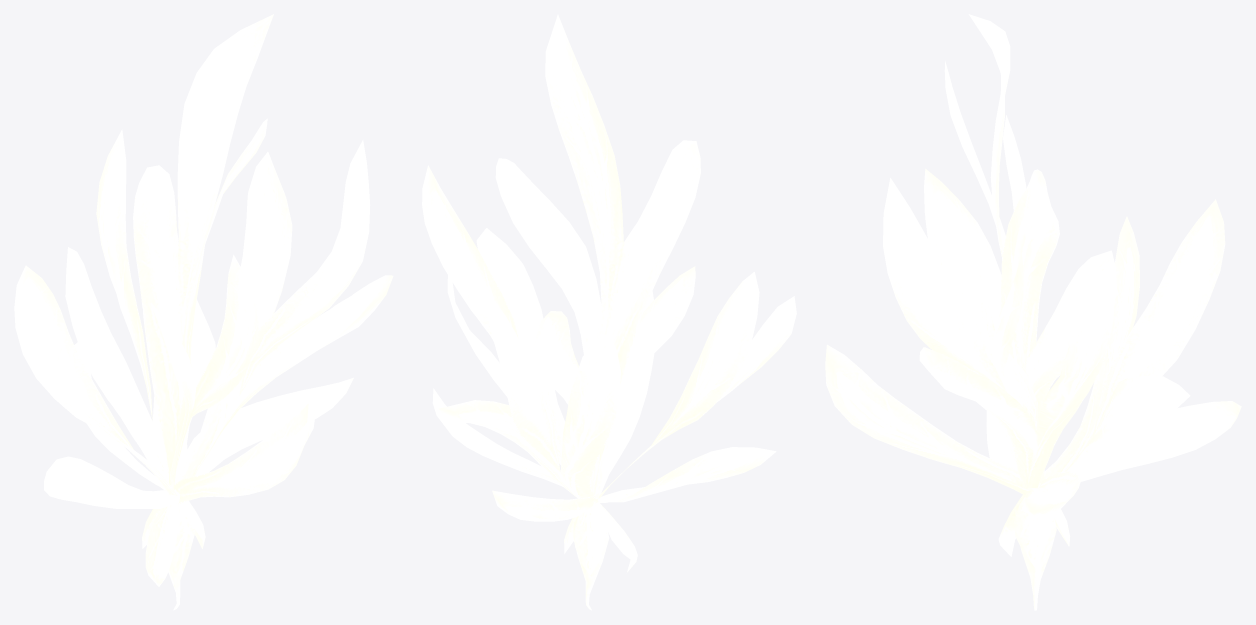
3 views of the same model, side by side, from view 1: azimuth 30°, elevation 25°; view 2: azimuth 150°, elevation 25°; view 3: azimuth 270°, elevation 25° (orthographic). The views are drawn at different scales.
Parts seen in each view (by area): view 1: SM_Kwuarm_LOD0; view 2: SM_Kwuarm_LOD0; view 3: SM_Kwuarm_LOD0.
Boxes of the visible parts, x1,y1,x2,y2 form: SM_Kwuarm_LOD0: [14, 14, 393, 610]; SM_Kwuarm_LOD0: [422, 14, 796, 610]; SM_Kwuarm_LOD0: [825, 14, 1241, 610].
Size of the model in its own units: 0.5807 by 0.9353 by 0.5589.
Materials: 1 (1 with a texture image).
